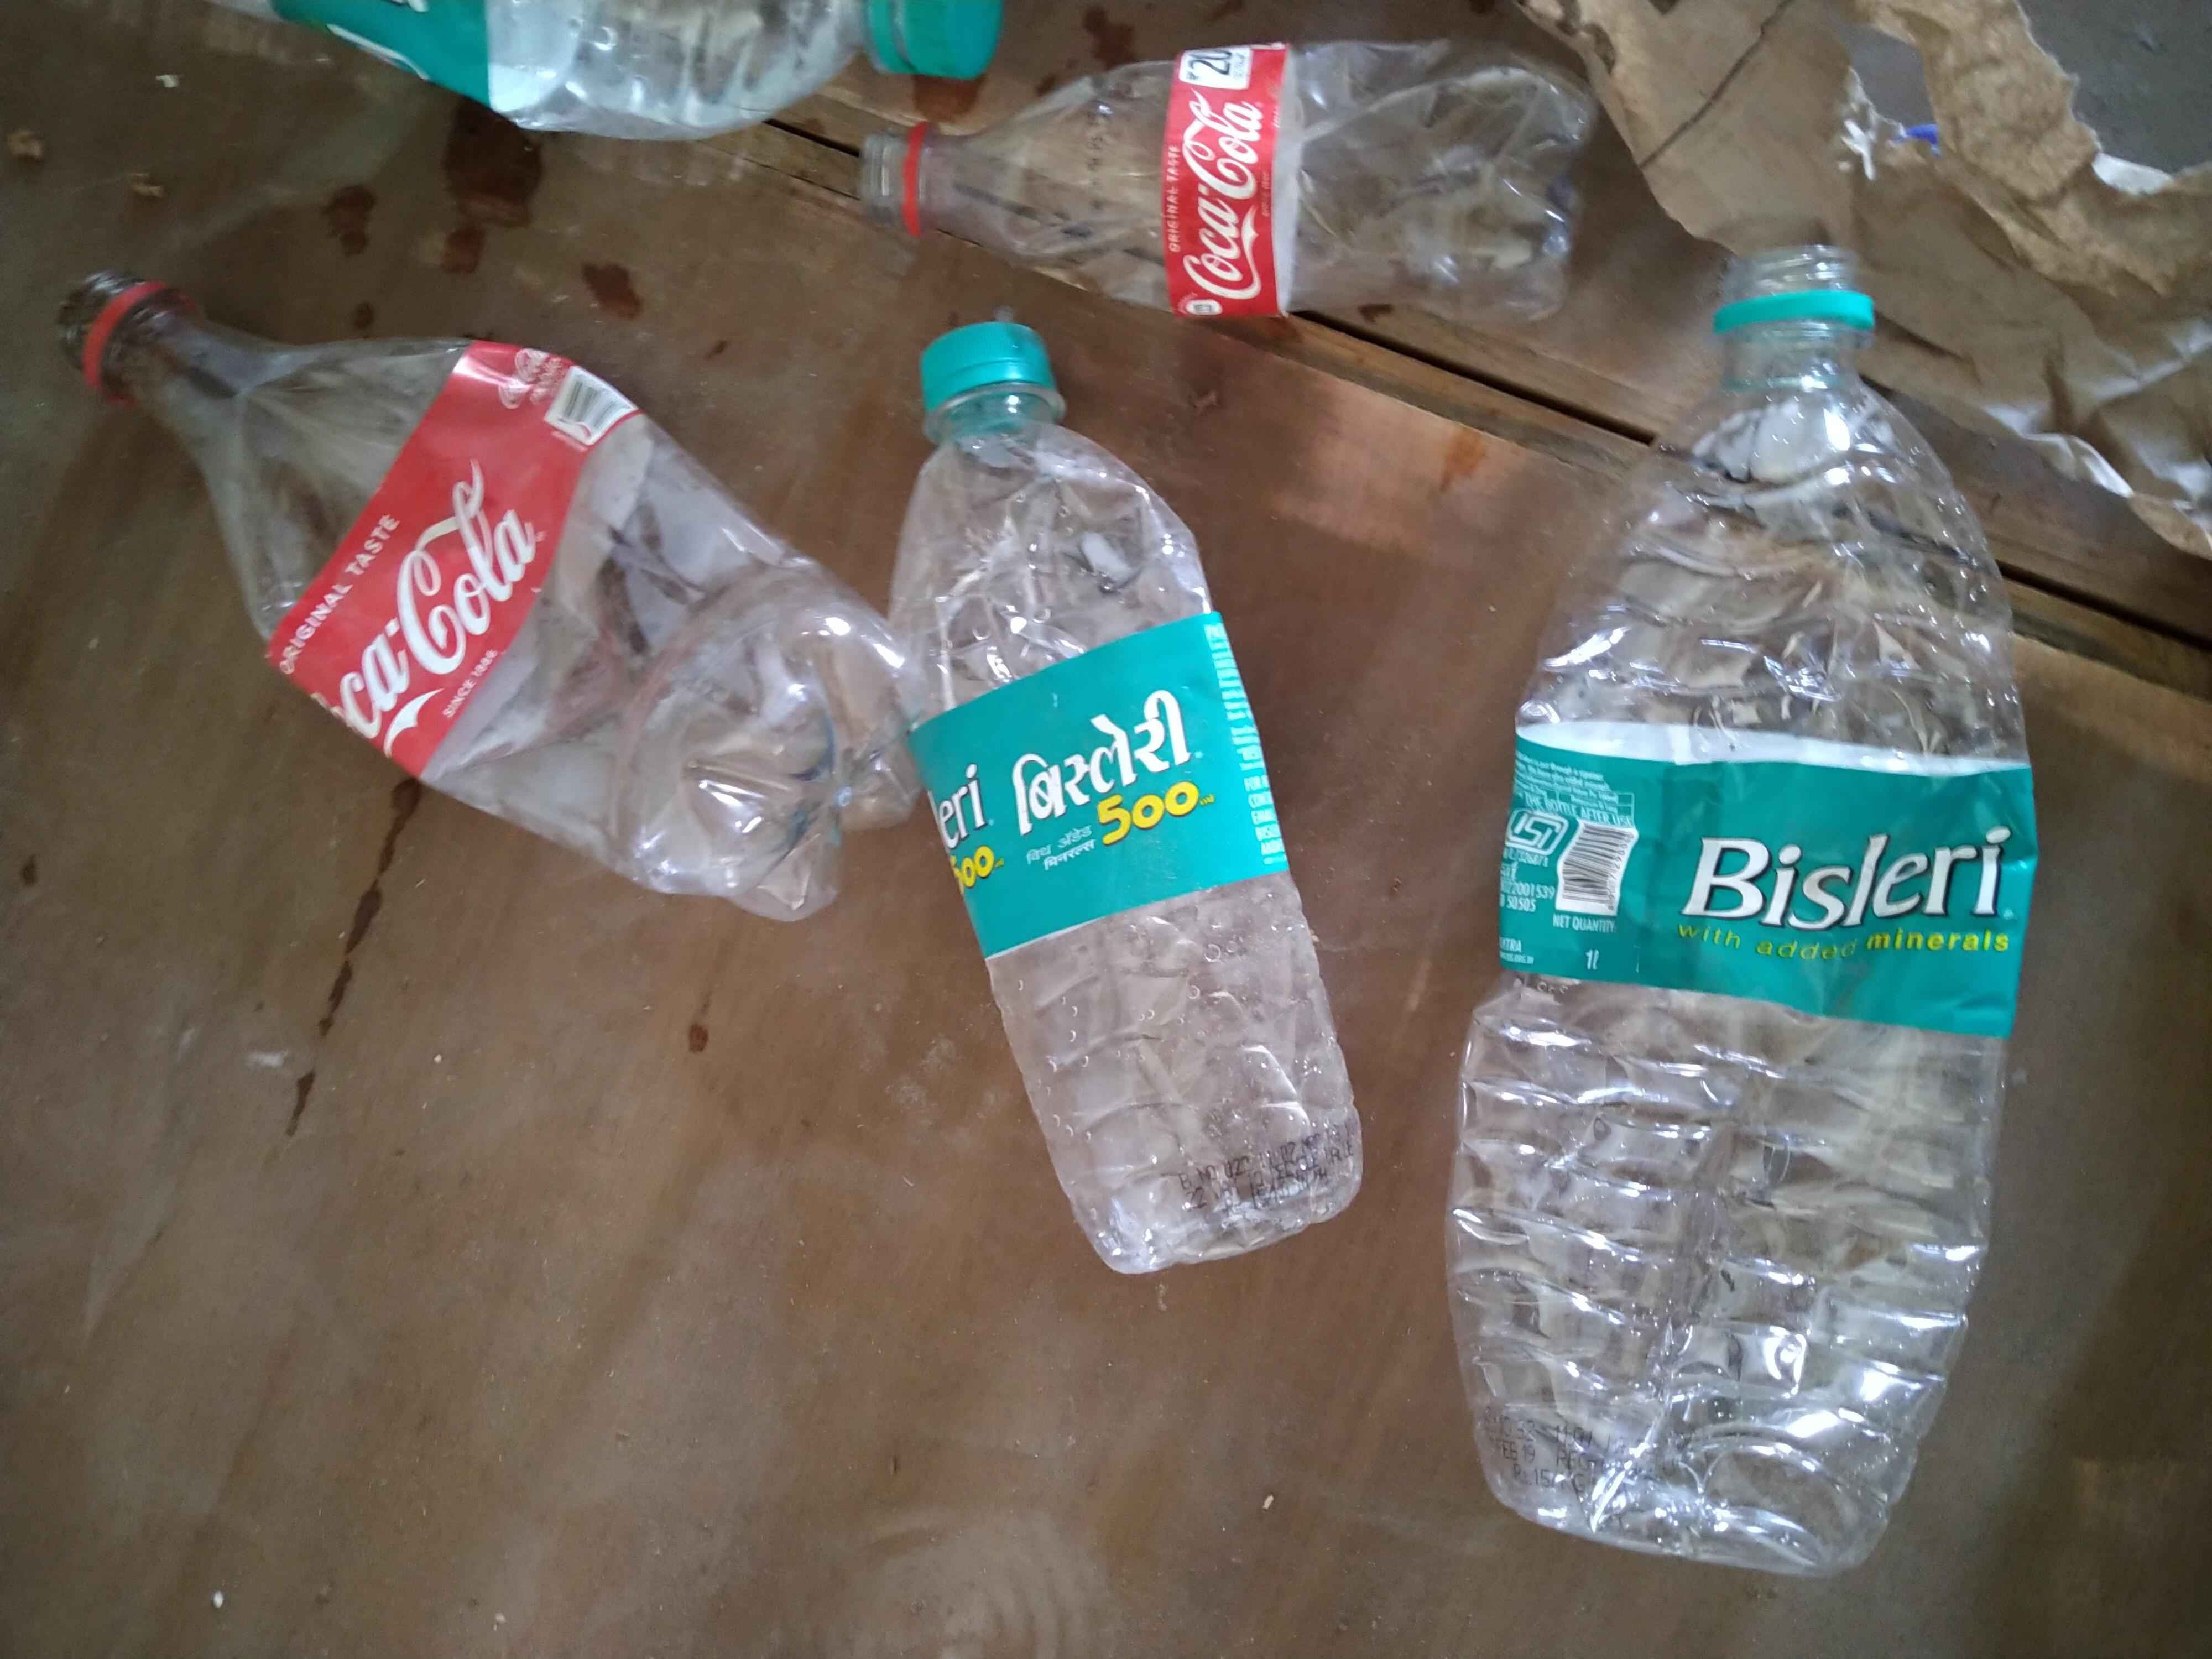Bisleri: (1526, 732, 2033, 1047), (932, 713, 1277, 878)
Coca-Cola: (329, 371, 606, 721), (1158, 37, 1292, 333)
